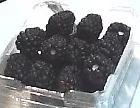berry: (83, 52, 116, 83), (15, 27, 46, 56), (27, 58, 56, 88), (4, 53, 32, 83), (77, 14, 103, 44), (40, 33, 67, 61), (57, 65, 82, 92), (46, 11, 74, 35), (106, 22, 130, 47), (99, 31, 122, 56), (65, 37, 87, 63)
